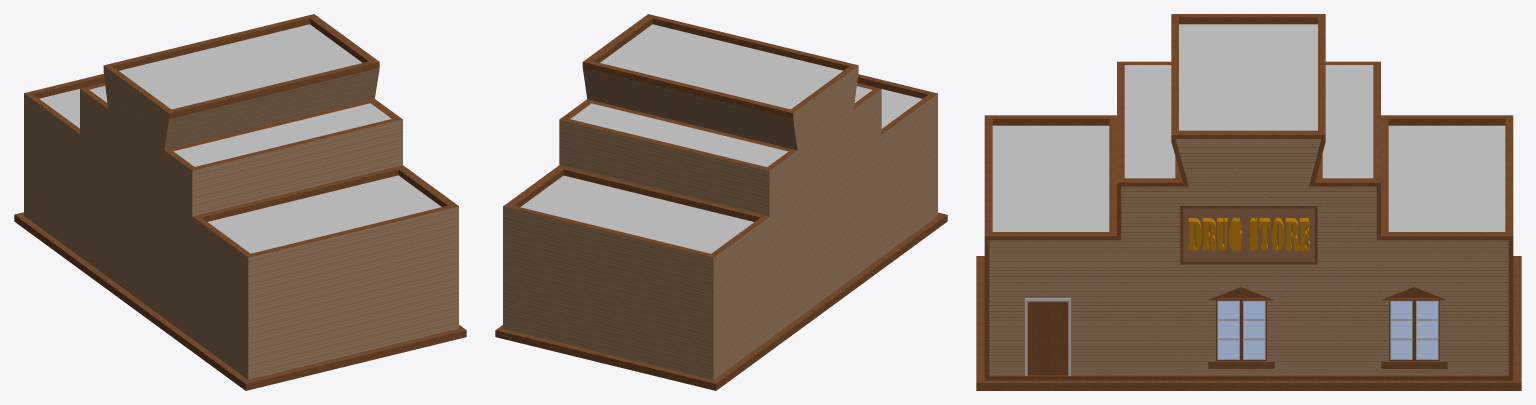
Rendered from drug_store_sign.fbx.
3 views of the same model, side by side, from view 1: azimuth 30°, elevation 25°; view 2: azimuth 150°, elevation 25°; view 3: azimuth 270°, elevation 25° (orthographic). The views are drawn at different scales.
Visible parts, largest first — view 1: Model; view 2: Model; view 3: Model, DRUG_STORE1.
Boxes of the visible parts, bbox=[...] form: Model: bbox=[14, 14, 466, 390]; Model: bbox=[495, 14, 947, 390]; Model: bbox=[976, 14, 1521, 390]; DRUG_STORE1: bbox=[1188, 217, 1309, 250].
Bounding box in the file's own units: 930 × 868 × 1689.
